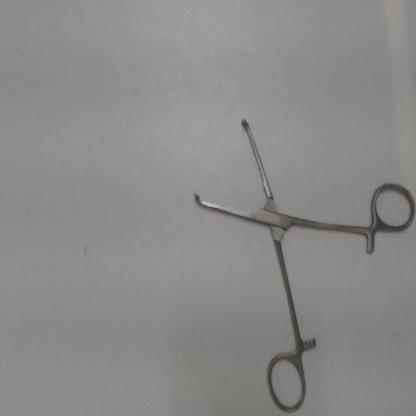Allis Tissue Forceps: (184, 102, 416, 415)
